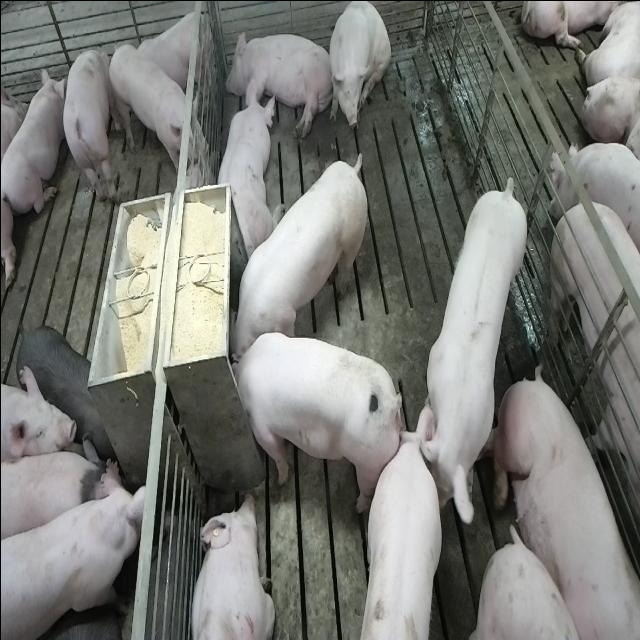Feeding: (220, 330, 397, 512), (230, 143, 372, 360)
Lateral_lying: (224, 27, 334, 140)
Sitting: (326, 2, 390, 136)
Standing: (546, 194, 640, 640), (418, 178, 528, 530), (2, 459, 146, 640), (354, 428, 442, 640), (13, 319, 115, 460), (104, 48, 202, 172), (0, 433, 103, 549), (548, 133, 640, 250), (58, 42, 115, 210)
Sternal_lying: (187, 490, 275, 640), (210, 78, 274, 257), (2, 62, 62, 215), (130, 5, 214, 97)
